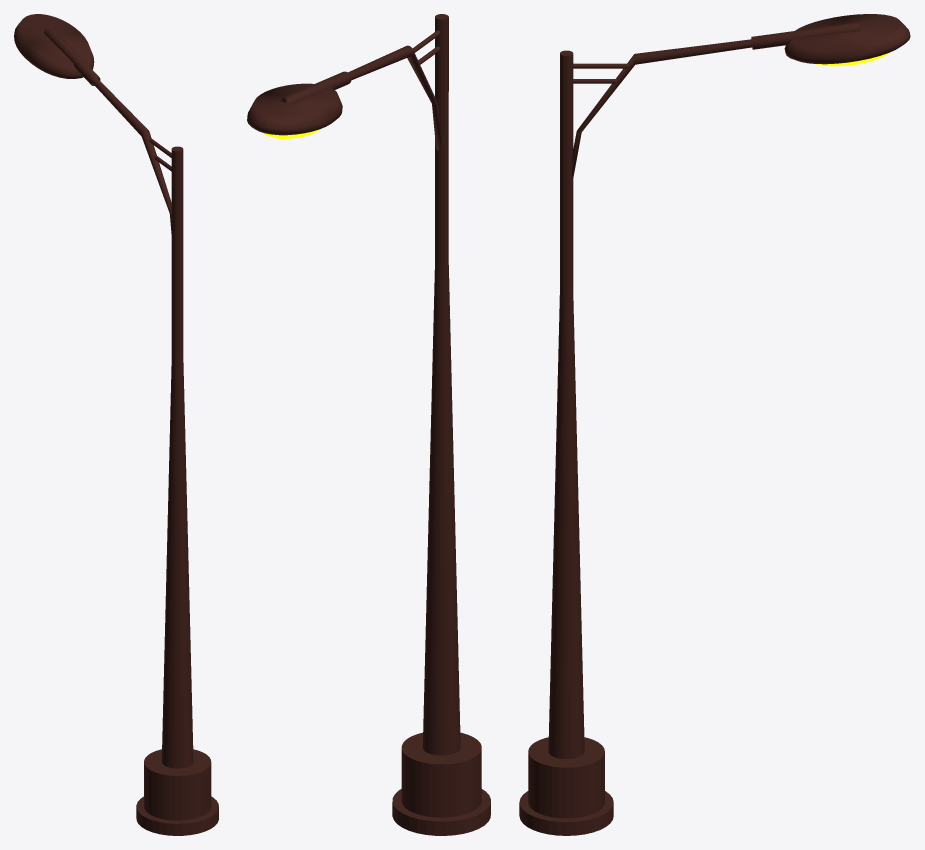
File: street_lamp_NIGHT (2).fbx
3 views of the same model, side by side, from view 1: azimuth 30°, elevation 25°; view 2: azimuth 150°, elevation 25°; view 3: azimuth 270°, elevation 25° (orthographic). The views are drawn at different scales.
Parts seen in each view (by area): view 1: Cylinder_004, Cylinder_007; view 2: Cylinder_004, Cylinder_007; view 3: Cylinder_004, Cylinder_007.
Part boxes in pixels (x1,y1,x2,y2): Cylinder_004: (136, 146, 218, 835); Cylinder_007: (14, 14, 171, 233); Cylinder_004: (392, 14, 490, 835); Cylinder_007: (247, 30, 441, 150); Cylinder_004: (519, 50, 613, 835); Cylinder_007: (572, 14, 910, 179).
Bounding box in the file's own units: 277 × 2574 × 1150.
